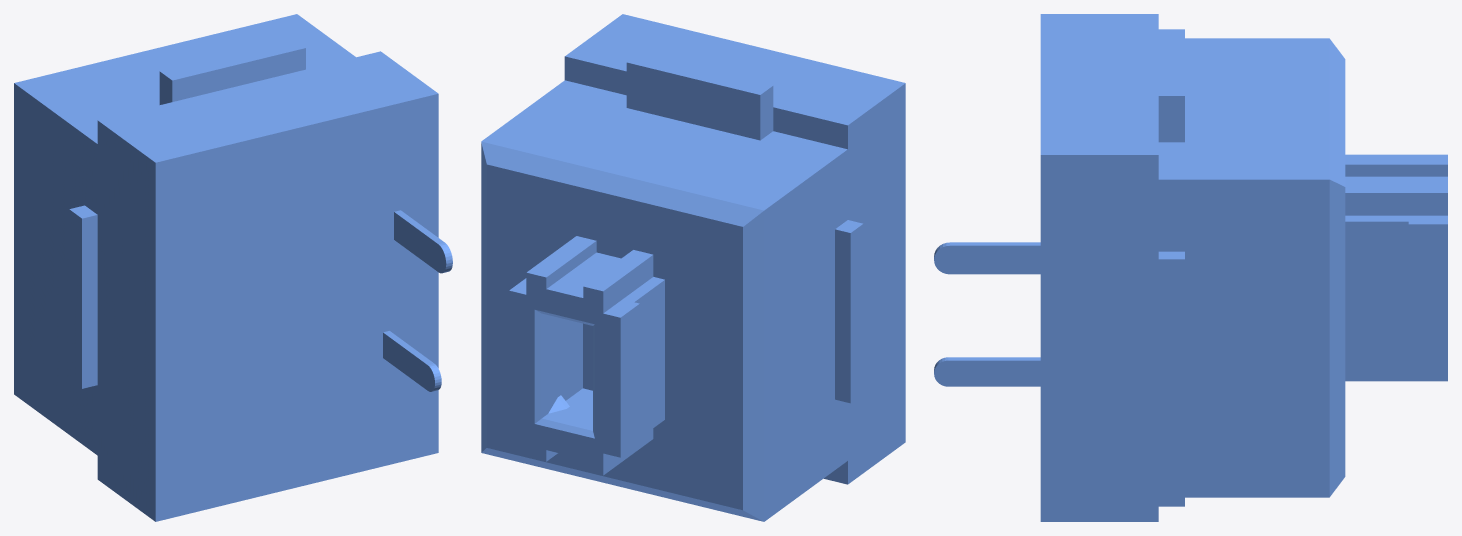
Rendered from matias-quiet-click-simplified.obj.
3 views of the same model, side by side, from view 1: azimuth 30°, elevation 25°; view 2: azimuth 150°, elevation 25°; view 3: azimuth 270°, elevation 25° (orthographic). The views are drawn at different scales.
Visible parts, largest first — view 1: 3D-2; view 2: 3D-2; view 3: 3D-2.
Part boxes in pixels (x1,y1,x2,y2): 3D-2: (14,14,452,521); 3D-2: (481,14,905,521); 3D-2: (934,14,1447,521).
Bounding box in the file's own units: 14.1 × 17.25 × 19.55.
